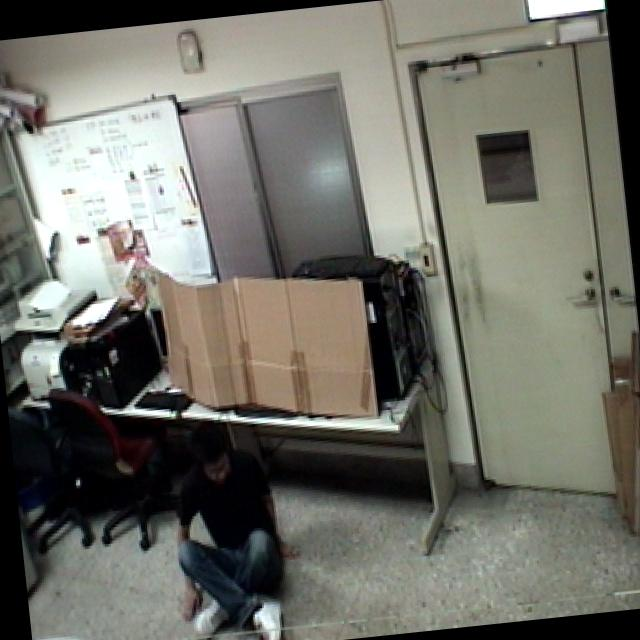sit: (149, 405, 317, 640)
